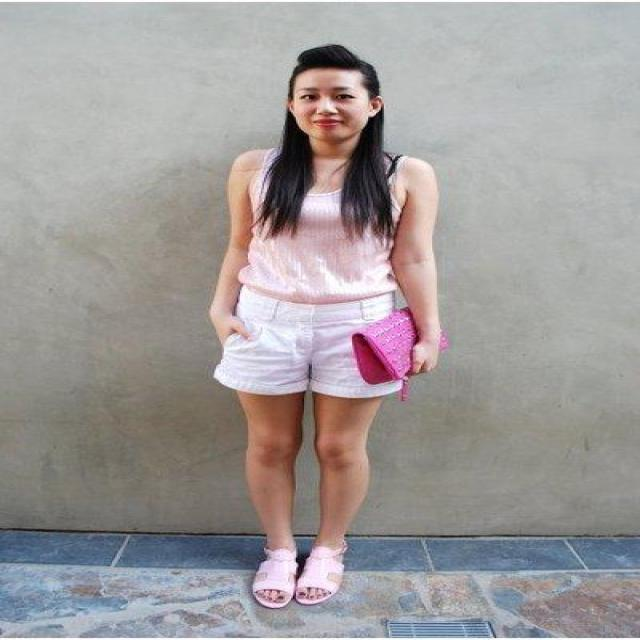bag: (352, 307, 440, 384)
shirt: (238, 188, 396, 344)
shoe: (258, 546, 366, 601)
shorts: (214, 314, 400, 396)
